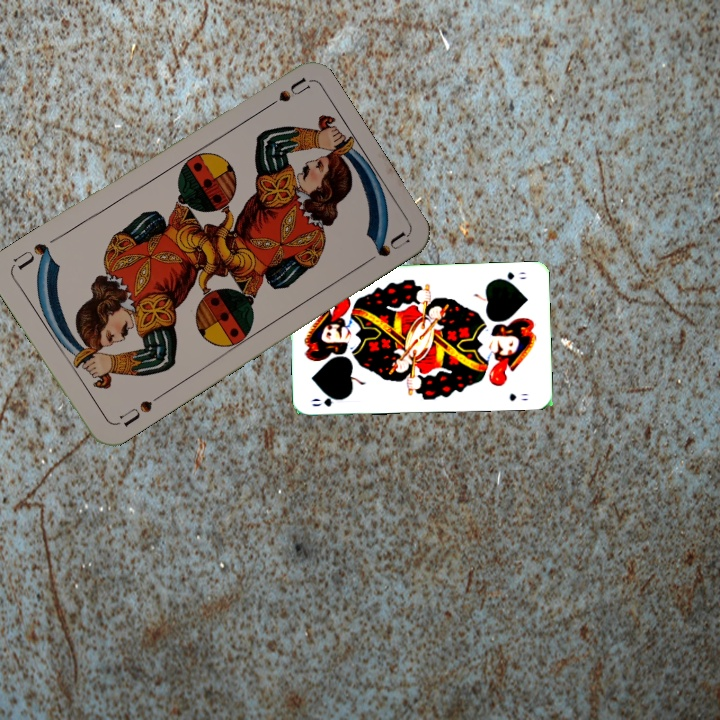GO: (307, 391, 348, 409), (492, 268, 529, 285)
SU: (256, 74, 311, 115), (115, 390, 165, 430)
